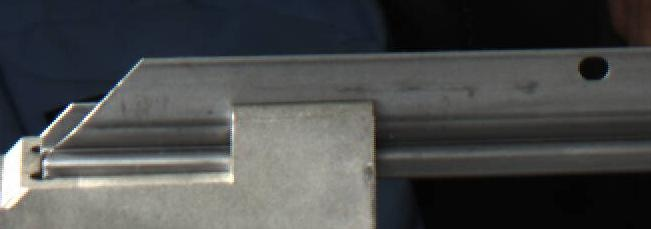cut: (31, 48, 203, 179)
holes: (576, 54, 611, 81)
